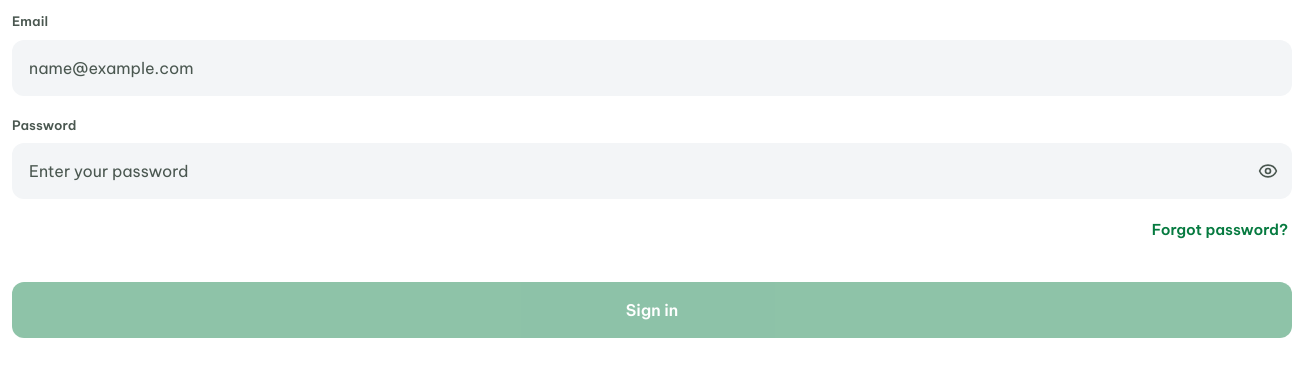
Scenario: SignInForm › shows a generic message for bad credentials
Type "ada@example.com" into the field labelled "Email" at [652, 68], box [12,40,1292,96]
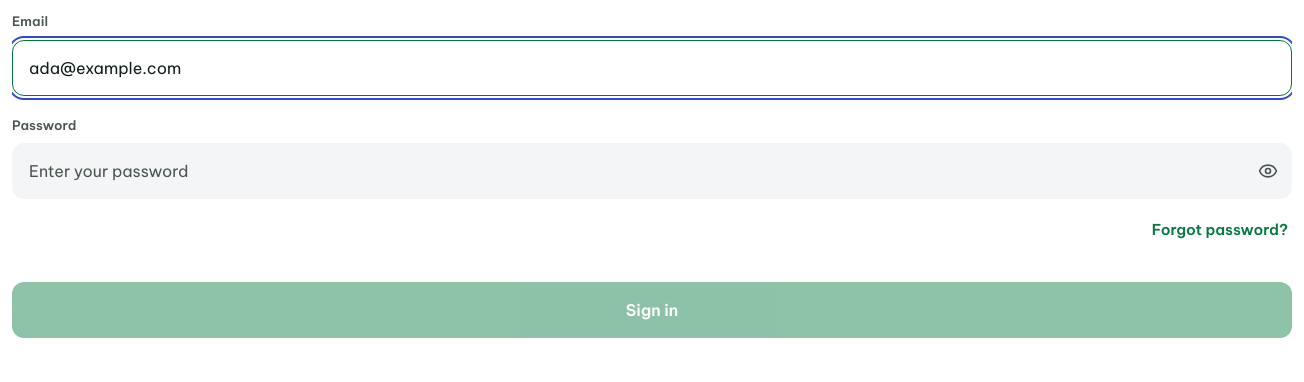
Type "correct horse battery" into the password field labelled "Password" at [652, 171], box [12,143,1292,199]
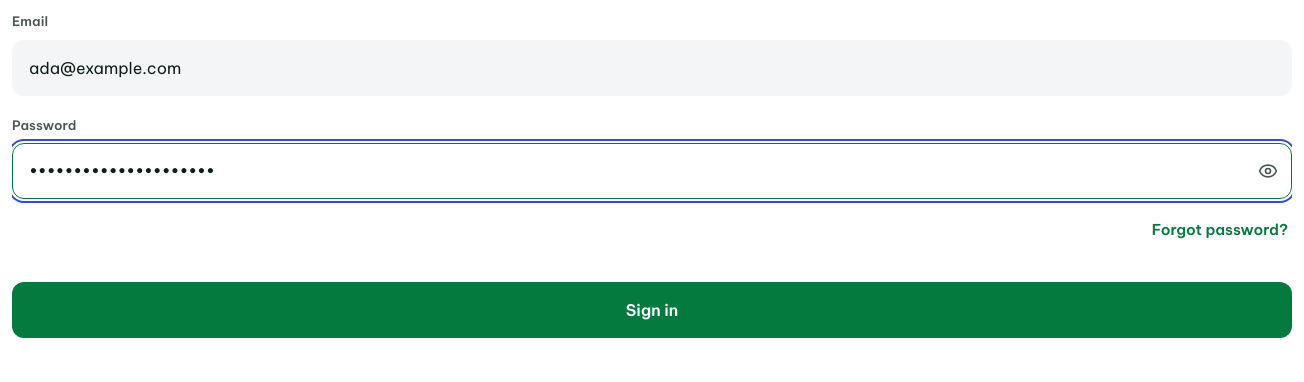
Click the button "Sign in" at [652, 310], box [12,282,1292,338]
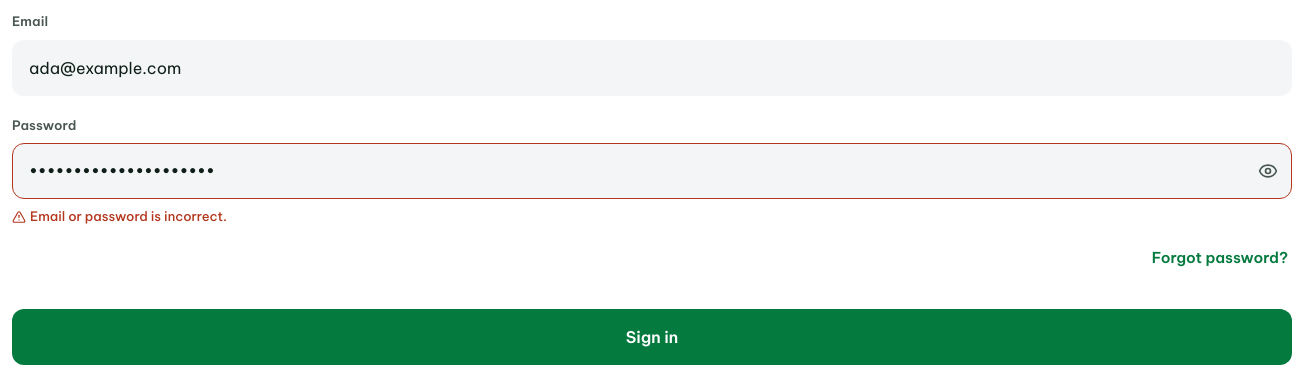
Now the message reads "Email or password is incorrect.", box [30,208,227,224]
